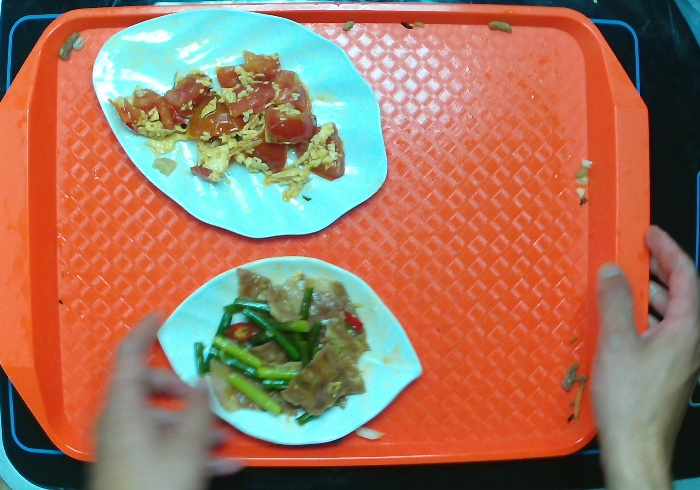RJxy-Bai_Ye_Pan: (83, 1, 387, 236)
RJxy-Da_Du_Pan: (156, 257, 422, 442)
